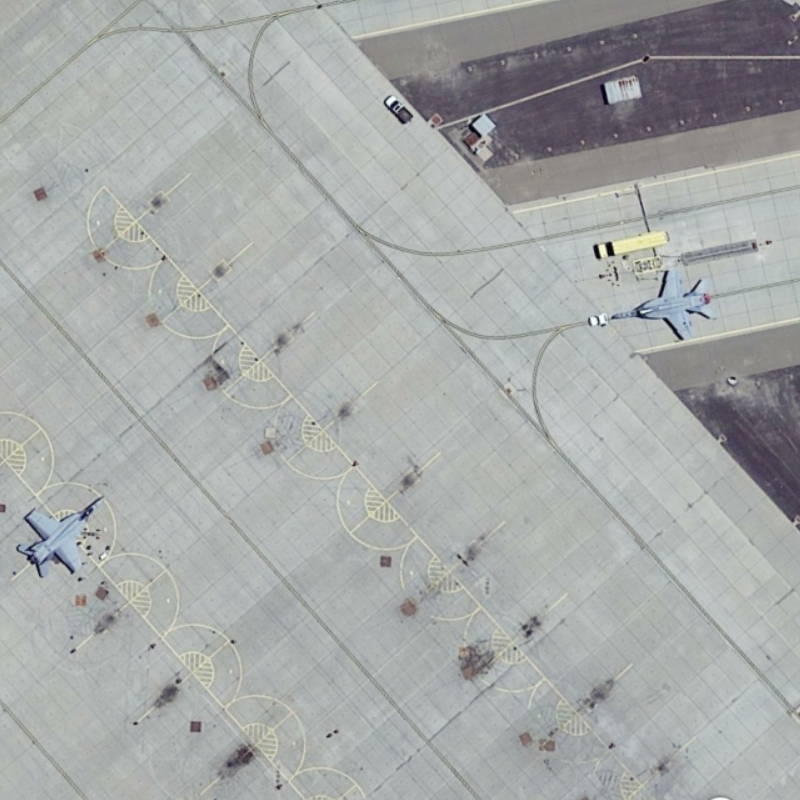A16: (605, 262, 716, 344), (14, 492, 106, 583)
